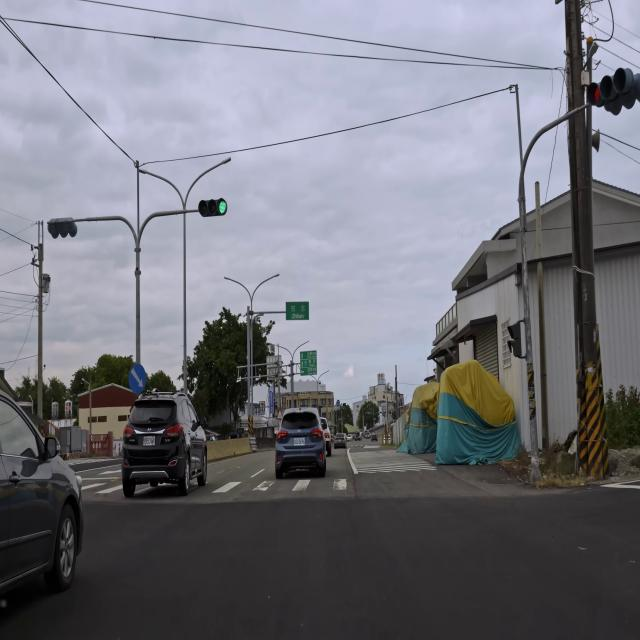green light: (198, 199, 227, 216)
